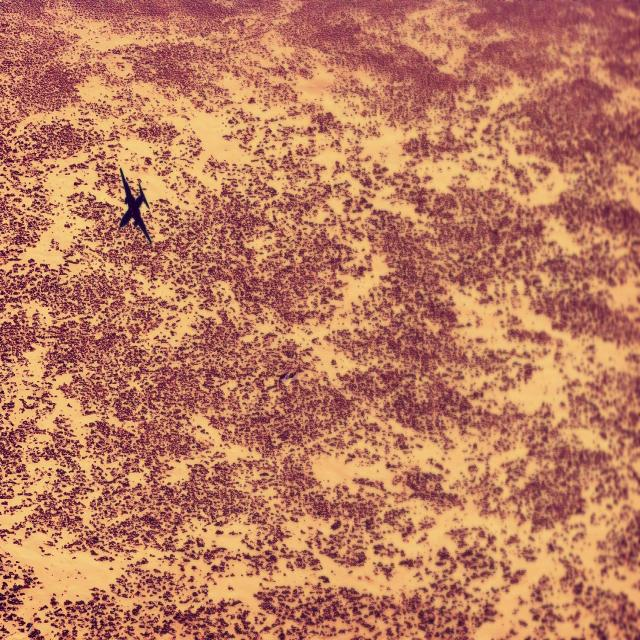airplane: (119, 166, 152, 245)
